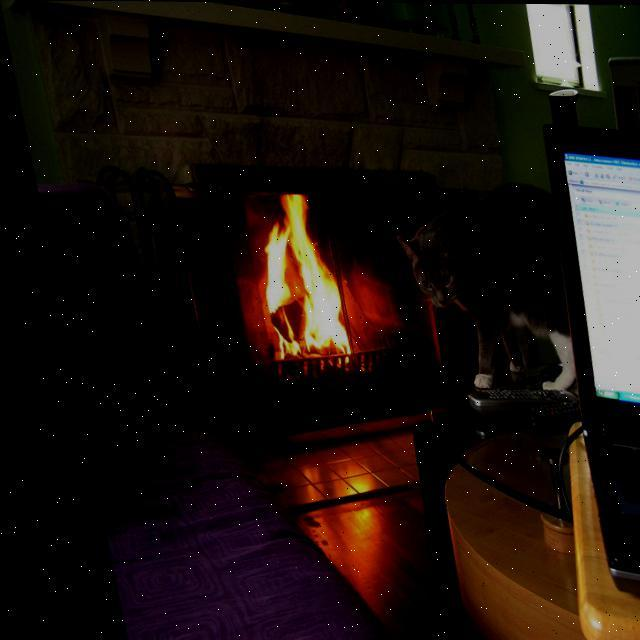Fire: (223, 184, 358, 374)
